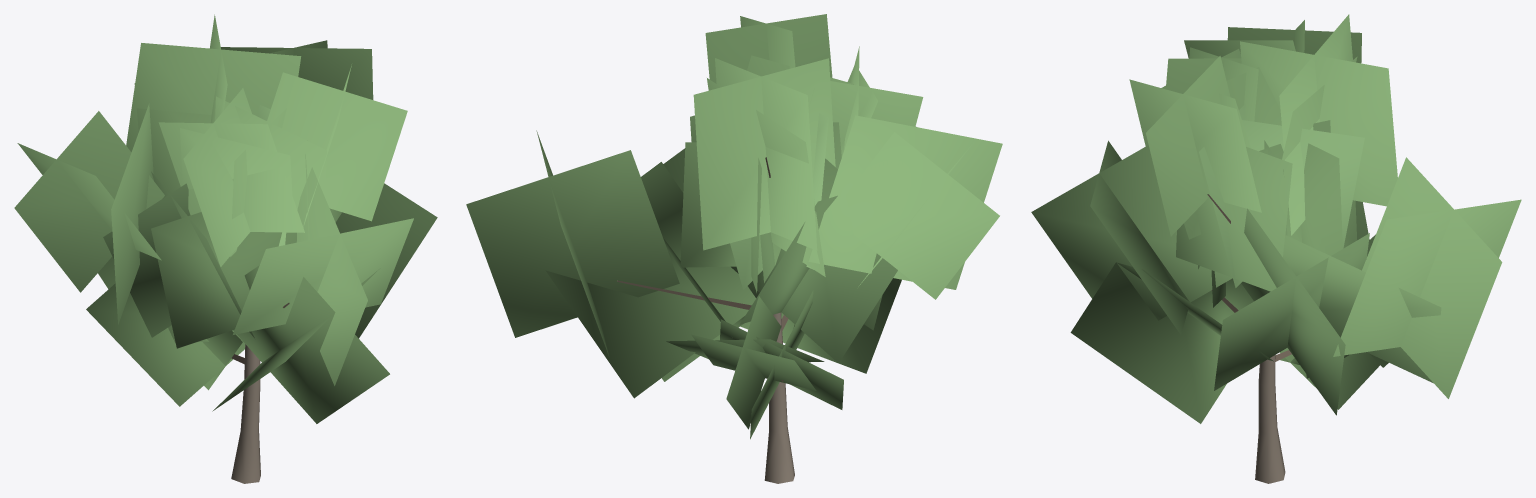
The model's file is tree_apple_fruit_a_lod1.glb.
The picture shows the model from 3 angles, left to right: view 1: azimuth 30°, elevation 25°; view 2: azimuth 150°, elevation 25°; view 3: azimuth 270°, elevation 25°; orthographic projection.
Visible parts, largest first — view 1: tree_apple_fruit_a_lod1; view 2: tree_apple_fruit_a_lod1; view 3: tree_apple_fruit_a_lod1.
Part boxes in pixels (<box>): tree_apple_fruit_a_lod1: <box>14,14,437,483</box>; tree_apple_fruit_a_lod1: <box>466,14,1002,483</box>; tree_apple_fruit_a_lod1: <box>1031,14,1521,483</box>.
Bounding box in the file's own units: 7.02 × 6.76 × 6.99.
